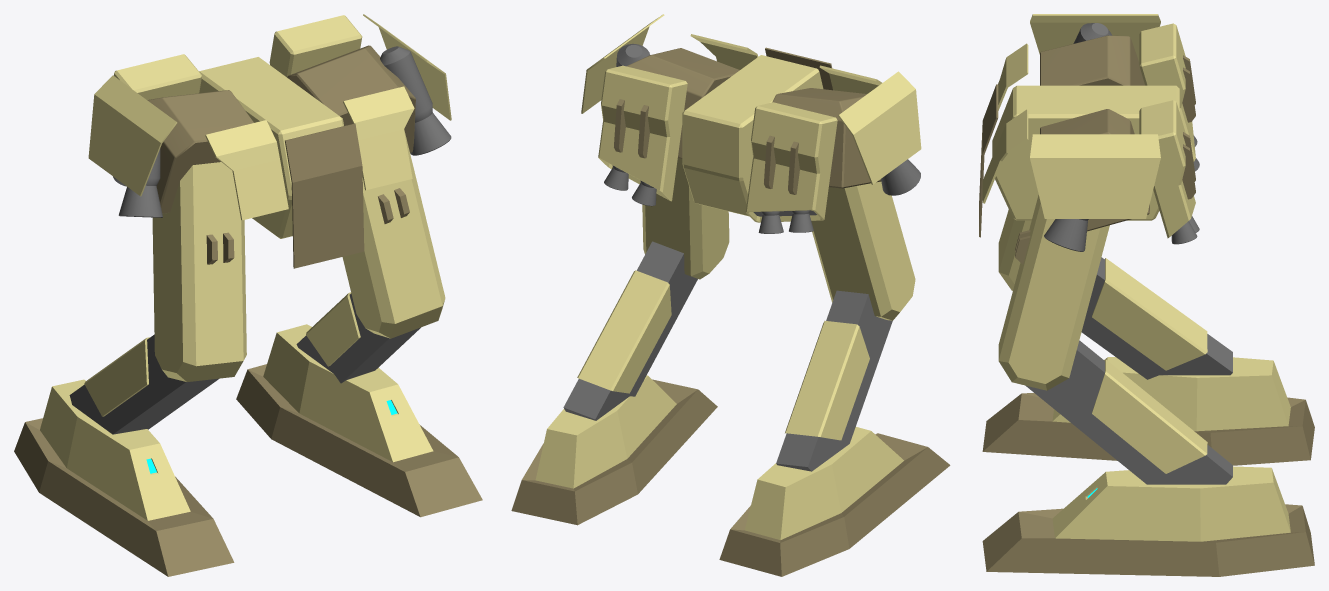
Rendered from LegsForward.fbx.
3 renders of one model, left to right at view 1: azimuth 30°, elevation 25°; view 2: azimuth 150°, elevation 25°; view 3: azimuth 270°, elevation 25°, orthographic. The views are drawn at different scales.
Visible parts, largest first — view 1: pasted__pCube47, pasted__pCube48, pasted__pCube37, pasted__pCube31, pasted__pasted__pCube36, pasted__pasted__pCube32, pasted__pPlane1, pasted__pasted__pCube40, pasted__pPlane4, pasted__pPlane3, pasted__pCube33 (×2), pasted__pasted__pCube39 (+9 smaller); view 2: pasted__pCube48, pasted__pCube47, pasted__pCube33 (×2), pasted__pasted__pCube32, pasted__pCube37, pasted__pCube39, pasted__pCube43, pasted__pPlane1, pasted__pCube31, pasted__pCube38, pasted__pCube32, pasted__pasted__pCube40 (+9 smaller); view 3: pasted__pCube47, pasted__pCube48, pasted__pCube33 (×2), pasted__pCube31, pasted__pPlane2, pasted__pasted__pCube32, pasted__pCube32, pasted__pasted__pCube40, pasted__pCube43, pasted__pCube38, pasted__pPlane1, pasted__pCube39 (+9 smaller).
Boxes of the visible parts, x1,y1,x2,y2 form: pasted__pCube47: [236, 324, 482, 517]; pasted__pCube48: [14, 379, 234, 576]; pasted__pCube37: [152, 162, 246, 381]; pasted__pCube31: [342, 129, 445, 338]; pasted__pasted__pCube36: [285, 123, 364, 268]; pasted__pasted__pCube32: [199, 57, 343, 238]; pasted__pPlane1: [88, 75, 177, 196]; pasted__pasted__pCube40: [147, 90, 253, 213]; pasted__pPlane4: [205, 120, 288, 220]; pasted__pPlane3: [343, 86, 414, 190]; pasted__pCube33 (×2): [84, 292, 360, 416]; pasted__pasted__pCube39: [287, 45, 415, 152]; pasted__pCube48: [719, 427, 950, 576]; pasted__pCube47: [511, 375, 717, 525]; pasted__pCube33 (×2): [577, 270, 869, 440]; pasted__pasted__pCube32: [682, 55, 823, 216]; pasted__pCube37: [811, 181, 915, 320]; pasted__pCube39: [745, 102, 837, 222]; pasted__pCube43: [598, 65, 687, 201]; pasted__pPlane1: [838, 71, 921, 184]; pasted__pCube31: [642, 158, 729, 279]; pasted__pCube38: [776, 290, 892, 471]; pasted__pCube32: [563, 241, 697, 420]; pasted__pasted__pCube40: [772, 88, 881, 188]; pasted__pCube47: [982, 466, 1314, 576]; pasted__pCube48: [982, 357, 1314, 465]; pasted__pCube33 (×2): [1092, 258, 1207, 473]; pasted__pCube31: [998, 195, 1109, 390]; pasted__pPlane2: [1030, 134, 1160, 218]; pasted__pasted__pCube32: [992, 85, 1179, 220]; pasted__pCube32: [1025, 340, 1232, 484]; pasted__pasted__pCube40: [1040, 35, 1144, 85]; pasted__pCube43: [1139, 100, 1195, 238]; pasted__pCube38: [1081, 257, 1232, 379]; pasted__pPlane1: [1030, 14, 1160, 61]; pasted__pCube39: [1139, 23, 1195, 161].
Bounding box in the file's own units: 12.26 × 15 × 10.81.
